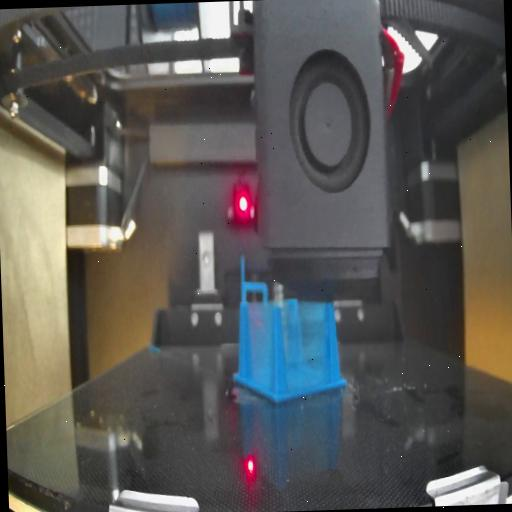stringing: (280, 300, 332, 394), (240, 297, 276, 395)
